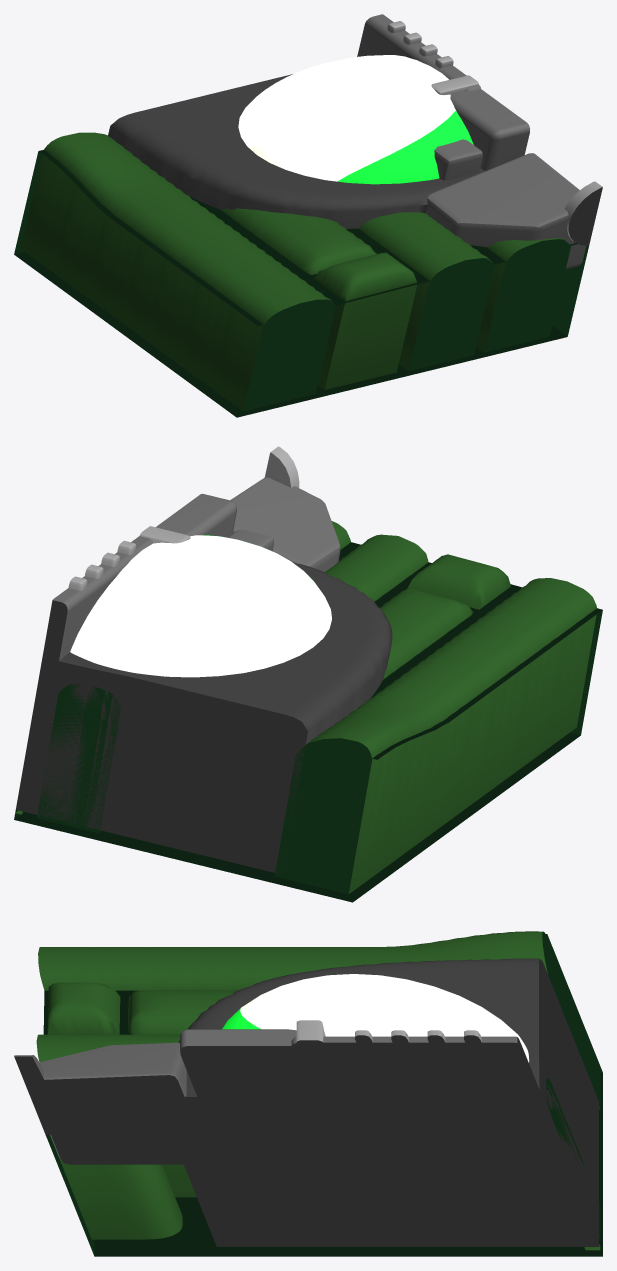
The model's file is green_shell_203.glb.
The picture shows the model from 3 angles, top to bottom: view 1: azimuth 30°, elevation 25°; view 2: azimuth 150°, elevation 25°; view 3: azimuth 270°, elevation 25°; orthographic projection. The views are drawn at different scales.
Visible parts, largest first — view 1: green_shell_203; view 2: green_shell_203; view 3: green_shell_203.
Part boxes in pixels (left/top/right/bottom): green_shell_203: left=14, top=14, right=602, bottom=417; green_shell_203: left=14, top=446, right=602, bottom=902; green_shell_203: left=14, top=931, right=602, bottom=1256.
Size of the model in its own units: 24 by 13.45 by 32.43.
